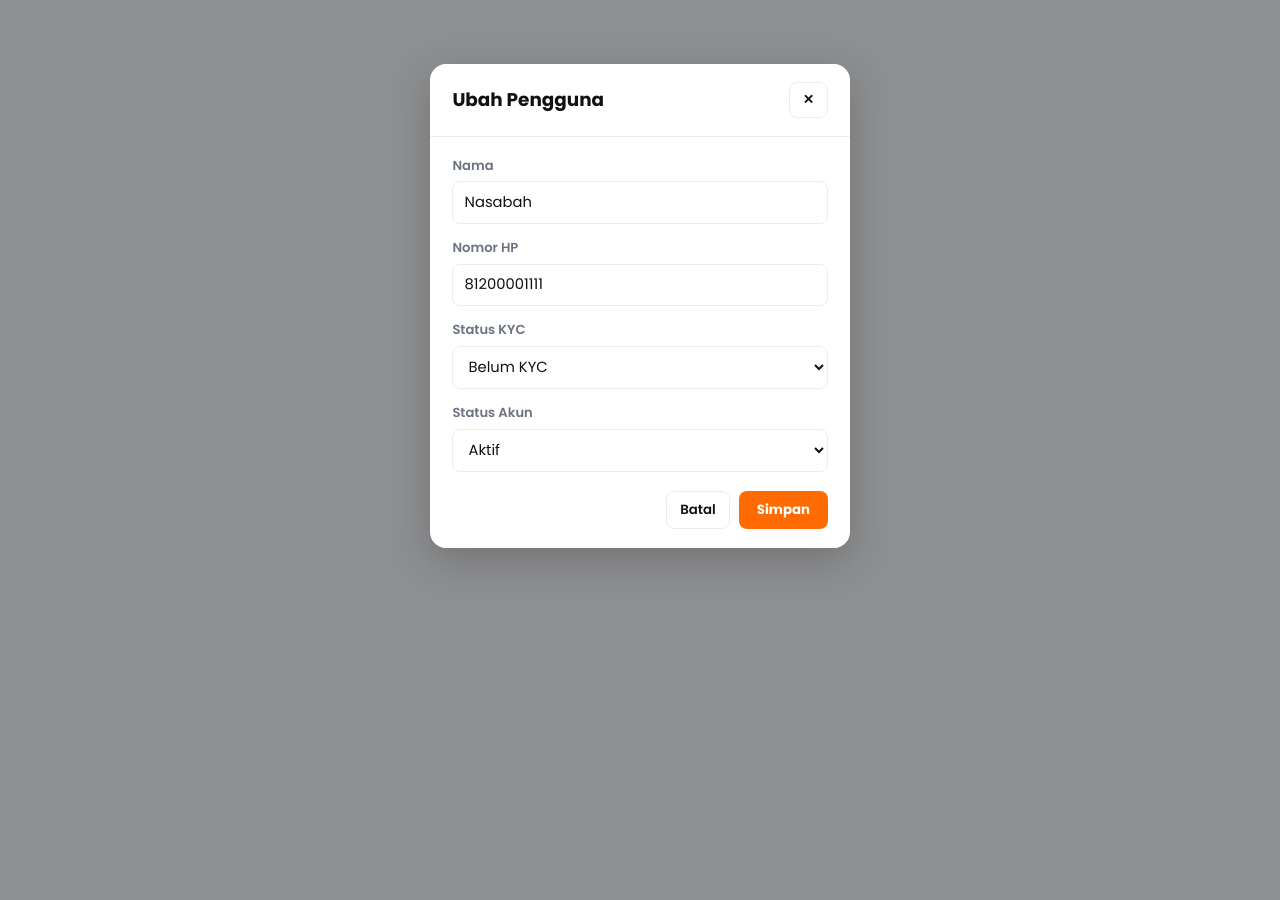
Test: UserEditModal › surfaces a duplicate-phone error and stays open
Click the button "Simpan": {"x": 783, "y": 510} left=739, top=491, right=828, bottom=529
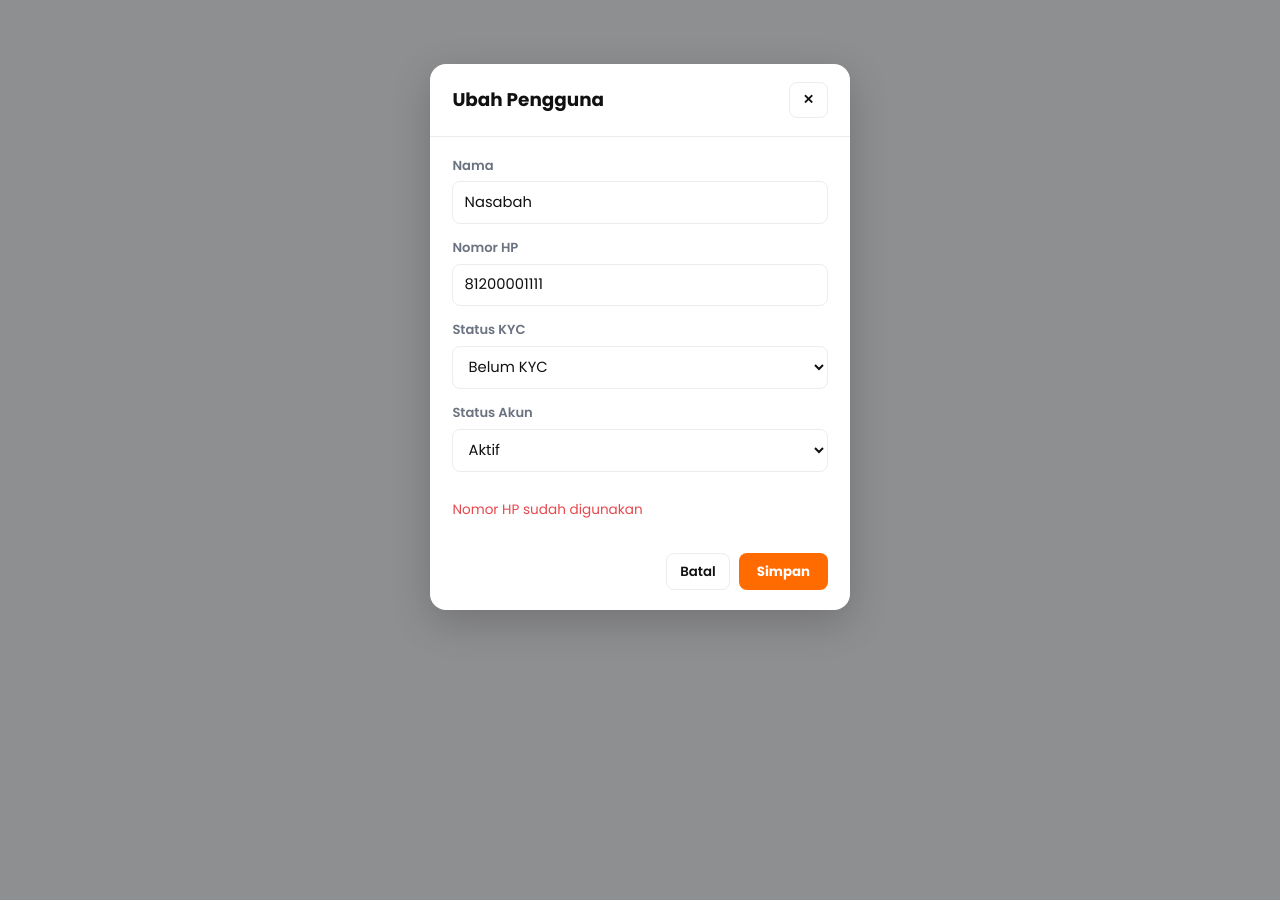
Expected: the text "Nomor HP sudah digunakan" is shown, left=452, top=500, right=643, bottom=519
